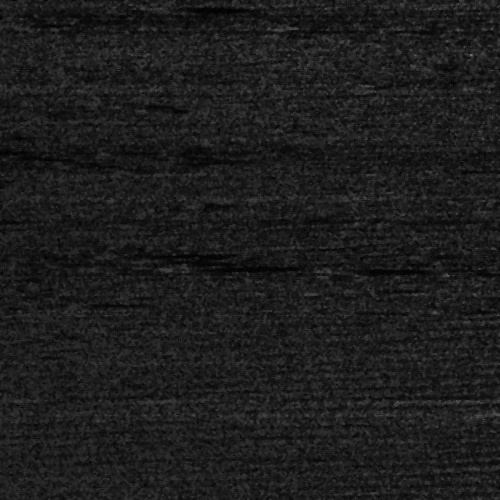object: (280, 264, 373, 271), (117, 2, 158, 9), (159, 262, 212, 267), (90, 250, 131, 255)
shadow: (138, 2, 218, 9), (111, 250, 215, 255), (327, 264, 401, 271), (186, 262, 274, 267)
